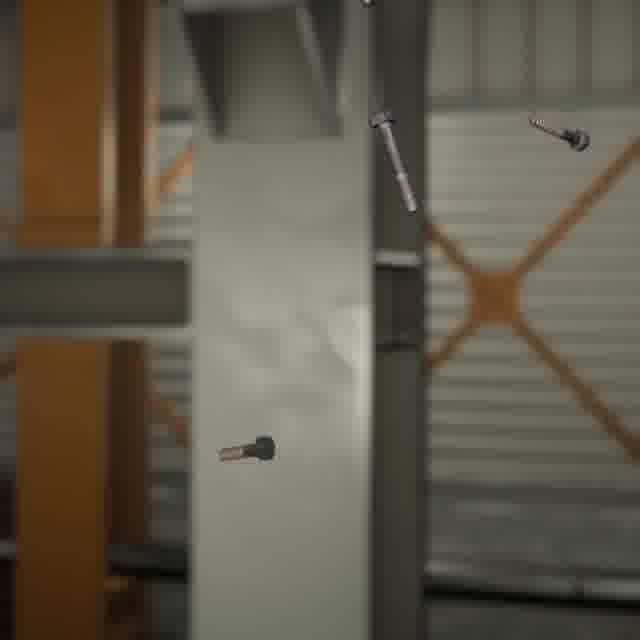bolt: (364, 105, 424, 218), (523, 112, 593, 156), (212, 431, 279, 465)
